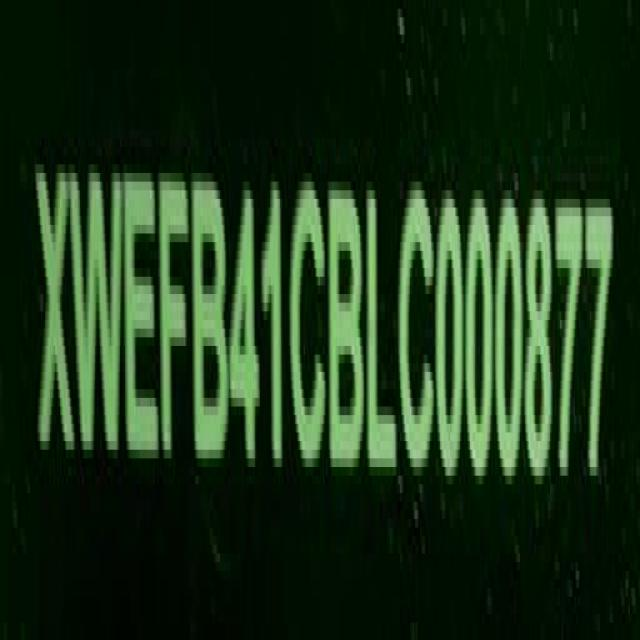0: (437, 187, 464, 483), (497, 191, 524, 482), (467, 185, 493, 479)
1: (261, 172, 286, 480)
4: (230, 180, 260, 480)
7: (589, 191, 618, 487), (555, 191, 581, 488)
8: (525, 191, 553, 485)
B: (194, 172, 230, 475), (330, 180, 365, 482)
C: (291, 177, 329, 478), (399, 184, 436, 484)
E: (126, 172, 160, 472)
F: (161, 172, 192, 476)
L: (369, 180, 397, 480)
W: (73, 162, 125, 469)
X: (36, 157, 74, 466)
